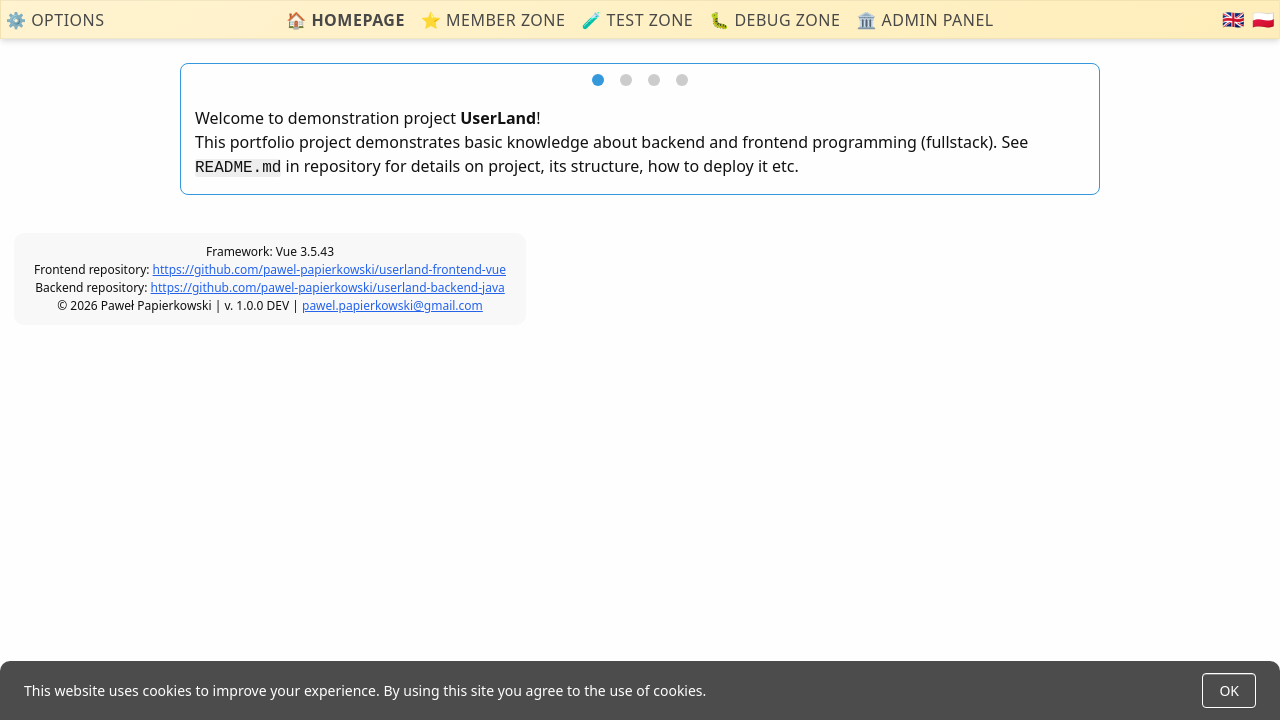
Scenario: StandardLayout › StandardMenu › logged › shows options dropdown with profile and logout
Note: Open the dropdown.
Click the button with test id "header_link_options". click: (55,20)
box: [6, 8, 105, 32]
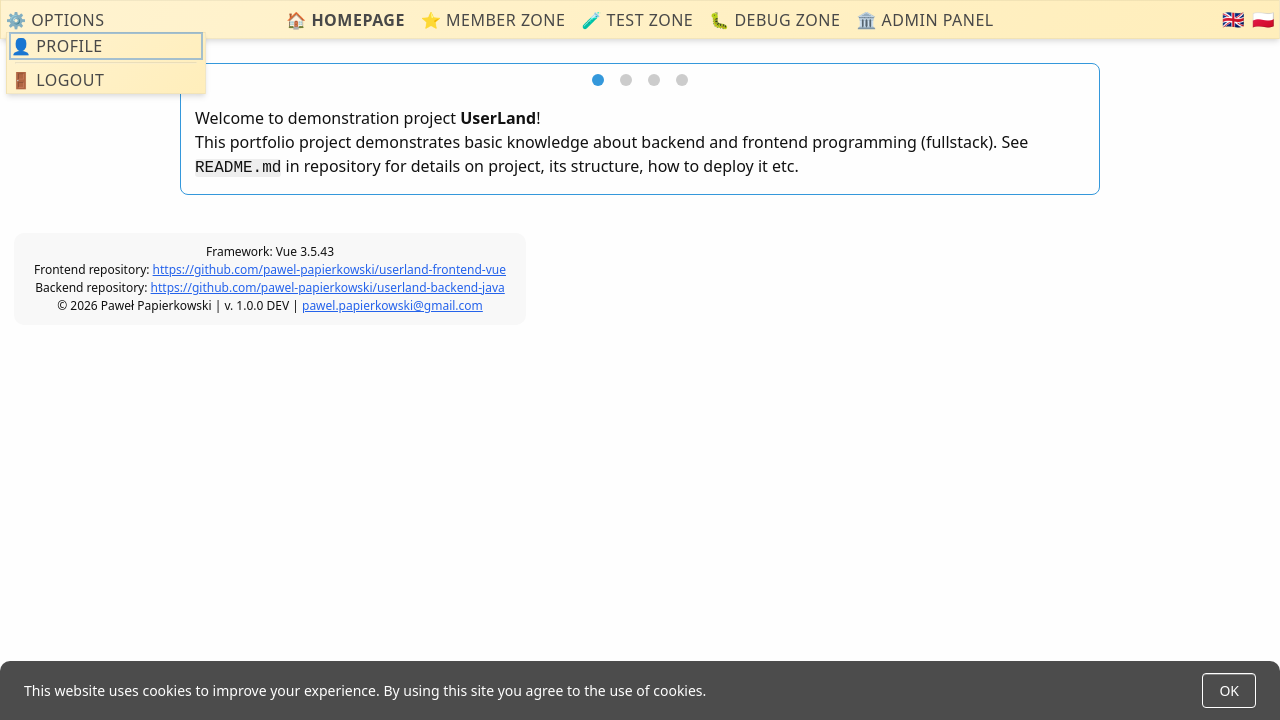
Now the link with test id "header_link_profile" is shown, box [11, 34, 103, 56]
Now the text "🚪 Logout" is shown, box [11, 68, 104, 90]
